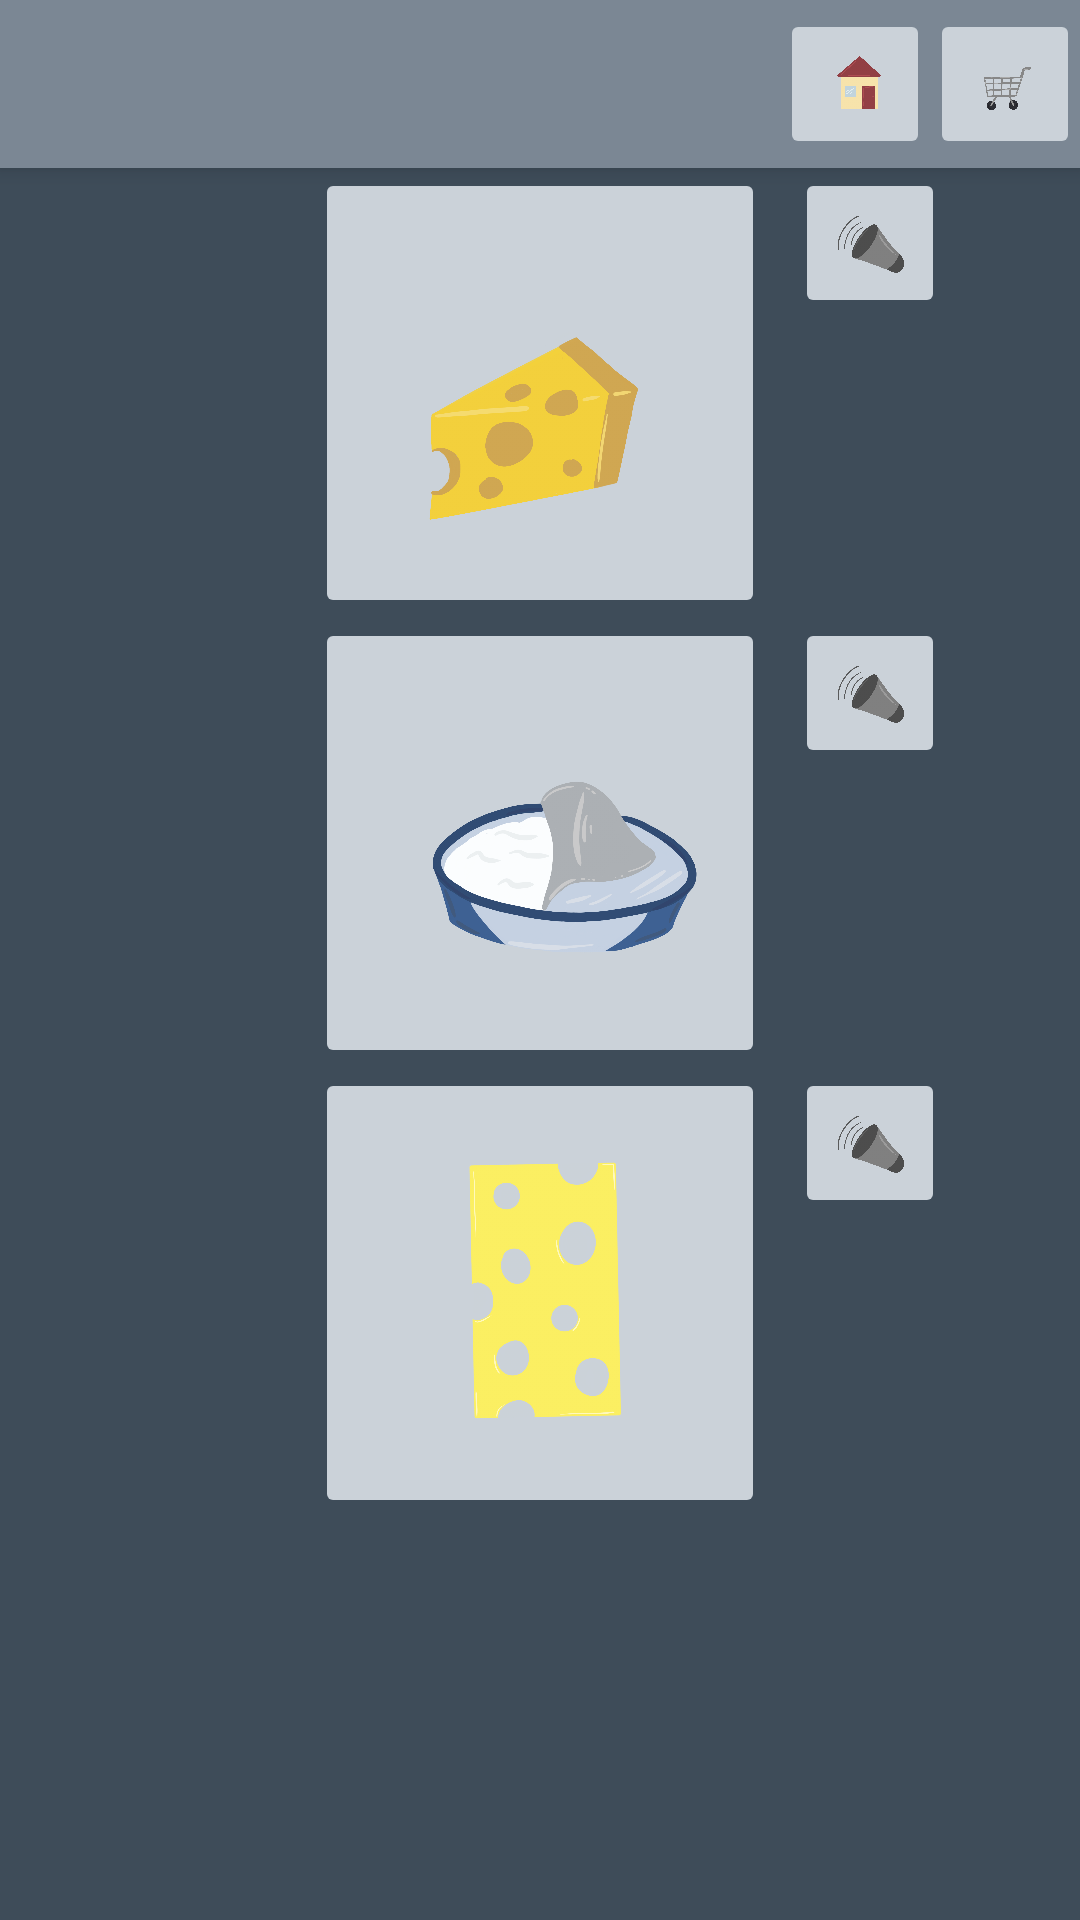

Icon click points for this 1080px x 1920px phone screenshot, format point (x, y):
home: point (855, 84)
sound: point (870, 243), point (870, 693), point (870, 1143)
warenkorb: point (1005, 84)
